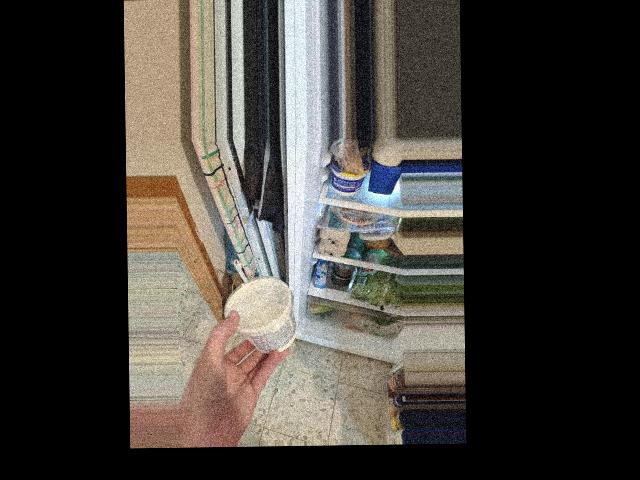cotage: (216, 279, 295, 360)
